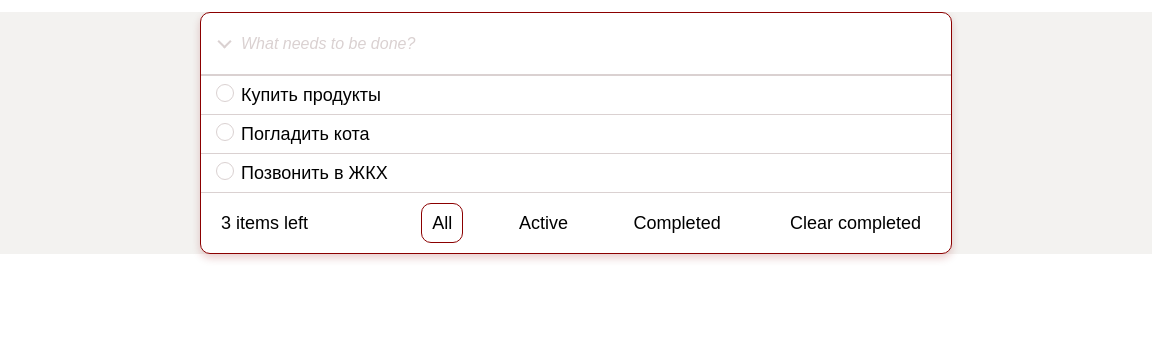
Test: clear completed
Type "Задача 1" into the field with placeholder "What needs to be done?".
click(594, 44); type("Задача 1")  # box [236,13,951,74]
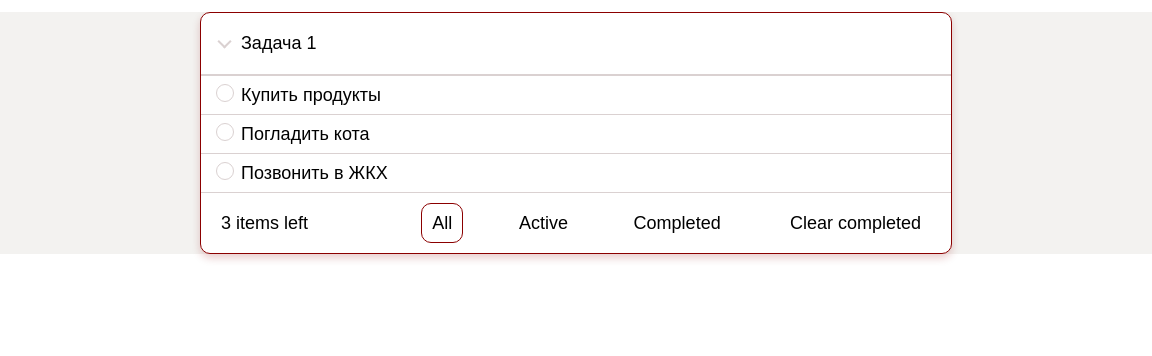
Submit the form with placeholder "what needs to be done", box [201,13,951,193]
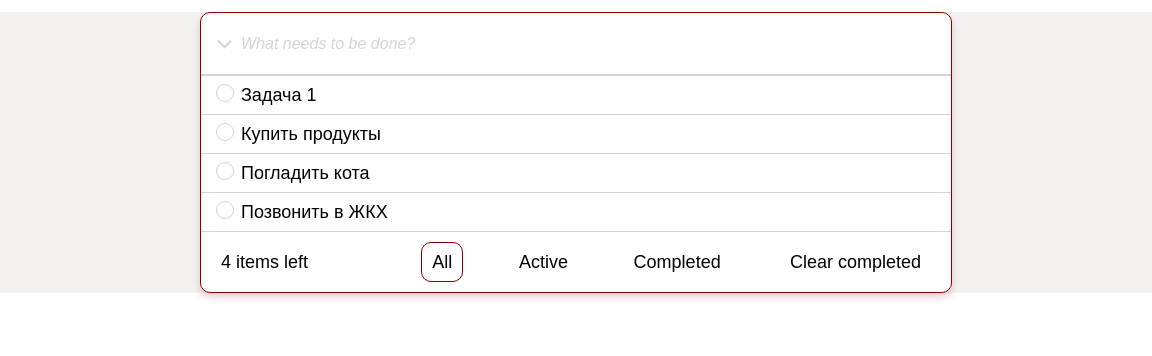
Type "Задача 2" into the field with placeholder "What needs to be done?".
click(594, 44); type("Задача 2")  # box [236,13,951,74]
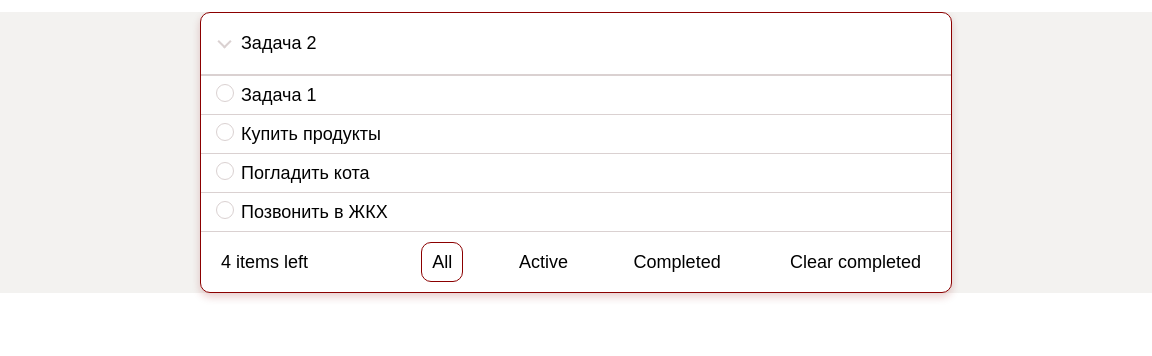
Submit the form with placeholder "what needs to be done", box [201,13,951,232]
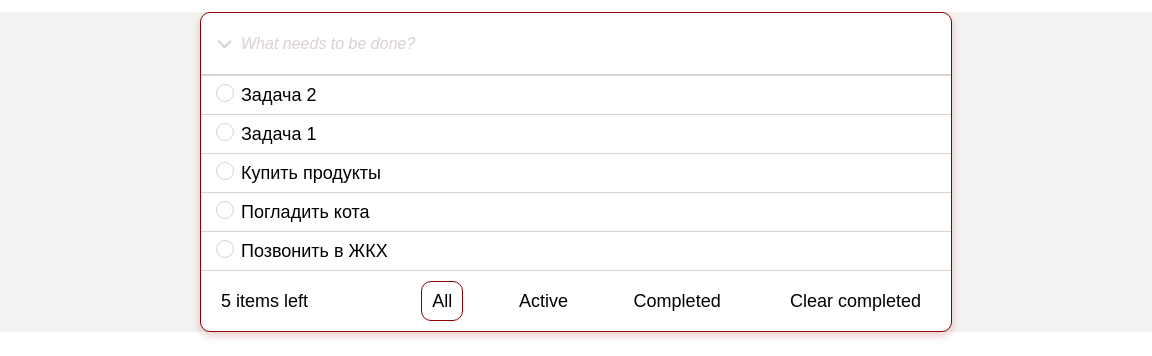
Click the list item "Задача 1".
click(576, 134)  # box [201,115,951,154]
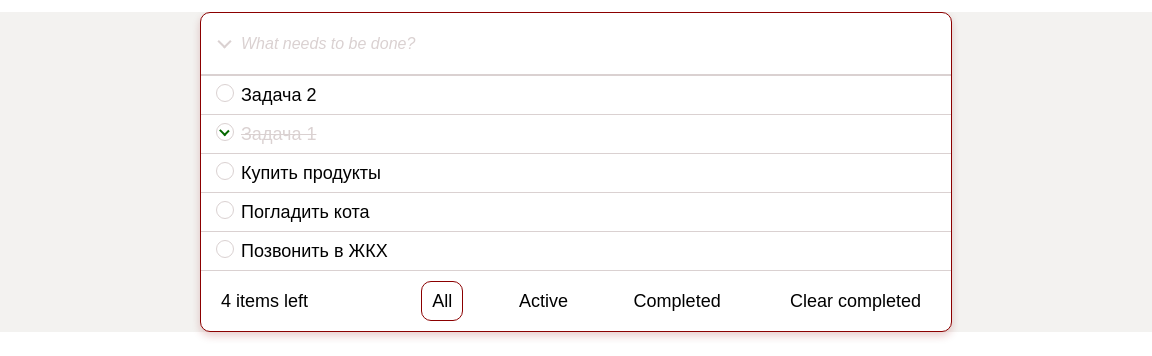
Click the button "Clear completed".
click(855, 301)  # box [780,282,931,320]
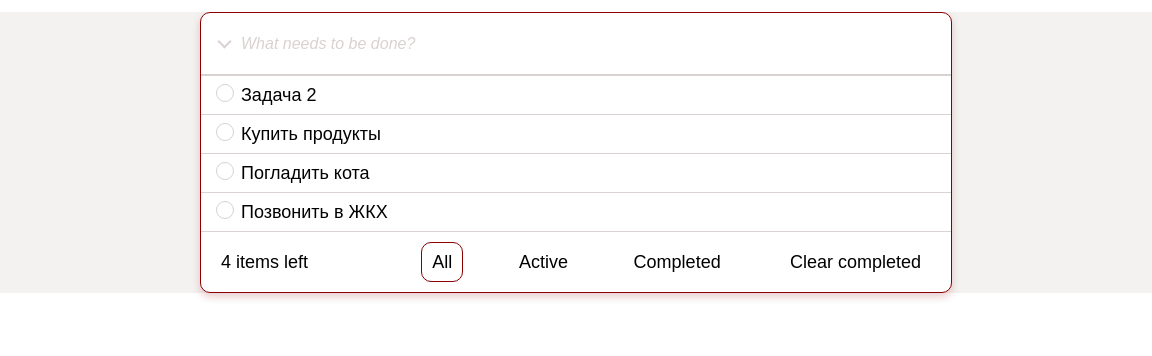
Expected: the list item "Задача 2" is shown, [201,76,951,115]
Expected: the list item "Задача 1" is gone
